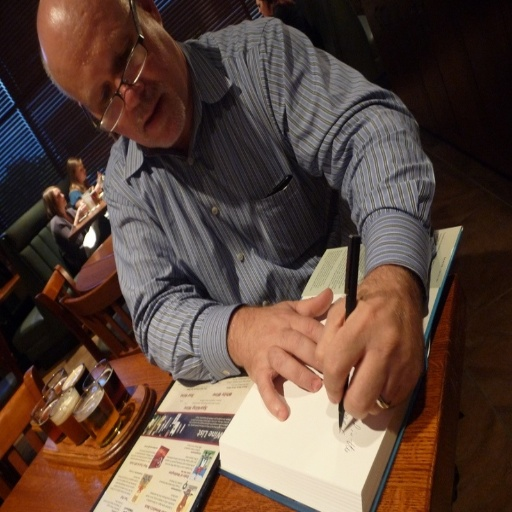hand: (314, 274, 424, 422), (242, 285, 331, 425), (75, 200, 88, 217)
